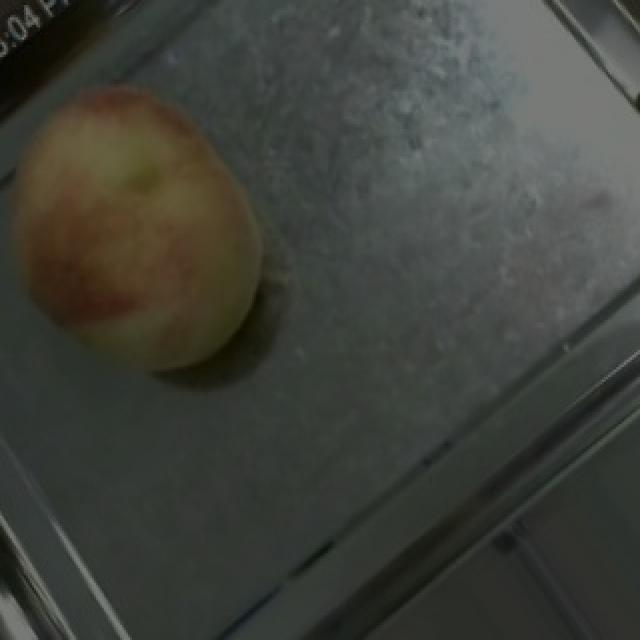Fruit: (0, 34, 302, 370)
